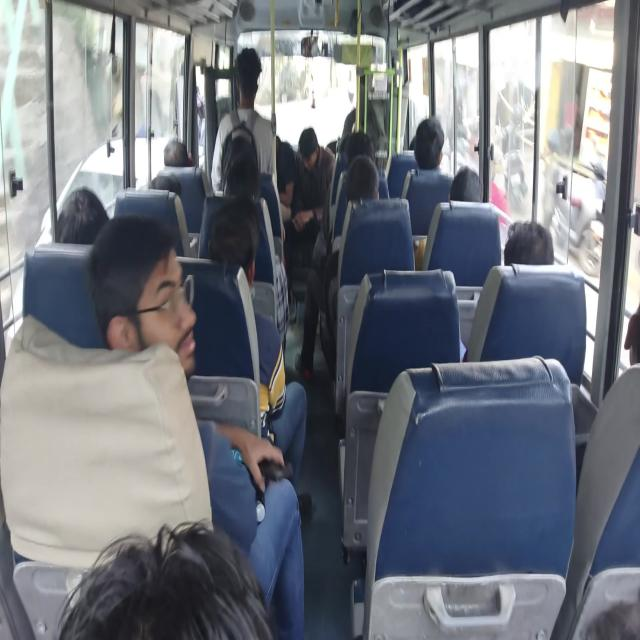person: (87, 212, 305, 638), (207, 195, 310, 515), (55, 518, 274, 638), (295, 153, 380, 380), (463, 218, 554, 360), (210, 47, 278, 196), (285, 126, 335, 266), (401, 116, 453, 238), (55, 186, 109, 245), (503, 219, 554, 266), (414, 116, 444, 170), (449, 165, 484, 202), (163, 137, 193, 167)
